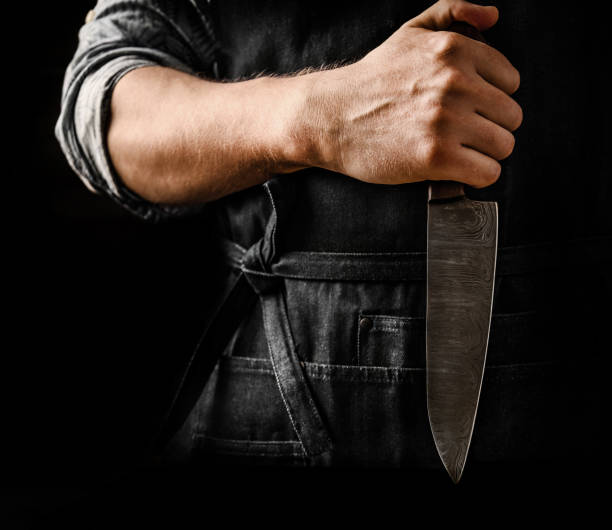knife: (421, 197, 501, 486)
